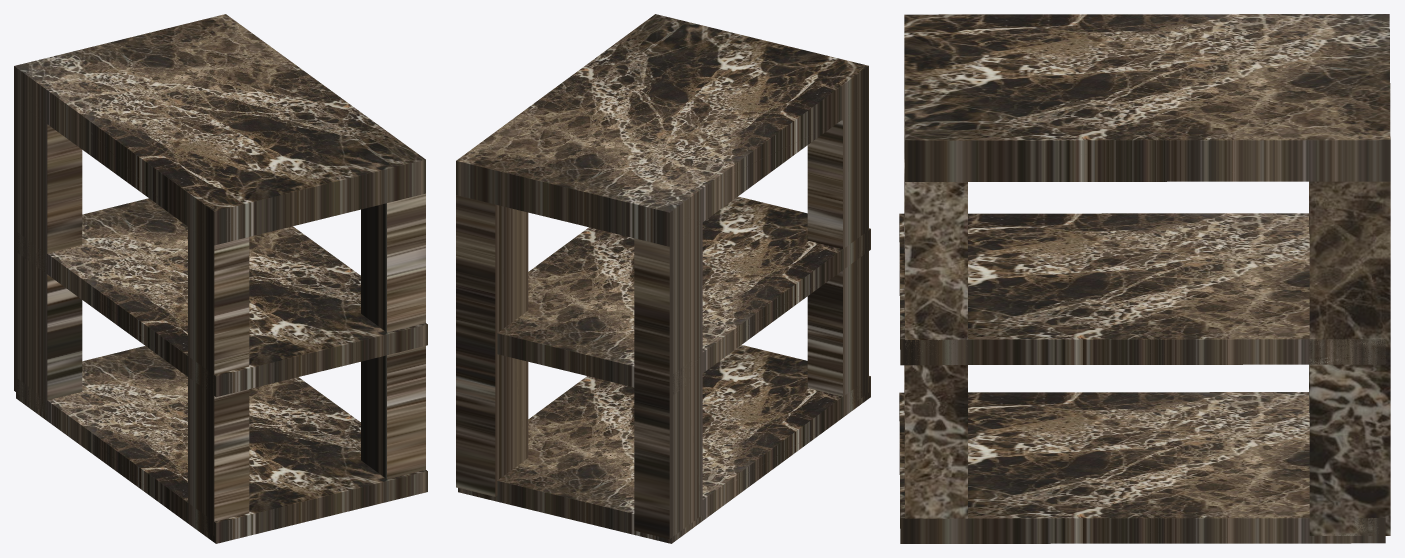
Rendered from Nochero.fbx.
3 renders of one model, left to right at view 1: azimuth 30°, elevation 25°; view 2: azimuth 150°, elevation 25°; view 3: azimuth 270°, elevation 25°, orthographic. The views are drawn at different scales.
Visible parts, largest first — view 1: estante; view 2: estante; view 3: estante.
Part boxes in pixels (x1=…): estante: x1=14, y1=14, x2=427, y2=543; estante: x1=456, y1=14, x2=870, y2=543; estante: x1=899, y1=14, x2=1390, y2=543.
Bounding box in the file's own units: 1.64 × 2.43 × 2.68.
Materials: 1 (1 with a texture image).
